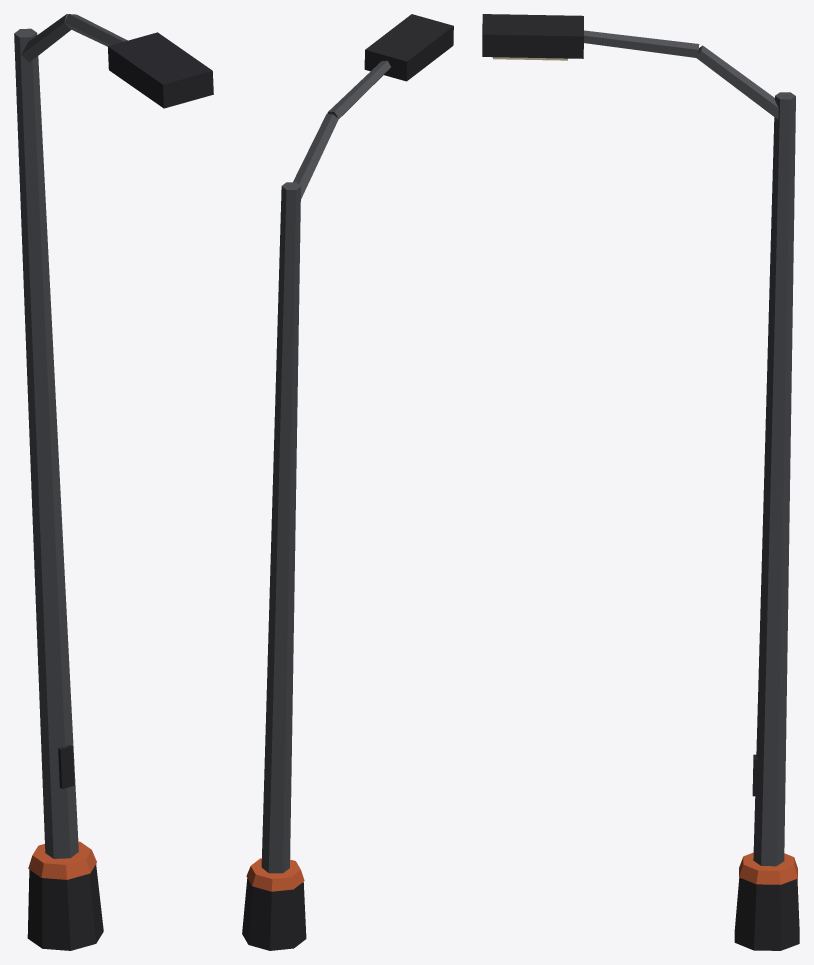
Rendered from streetlight.glb.
3 renders of one model, left to right at view 1: azimuth 30°, elevation 25°; view 2: azimuth 150°, elevation 25°; view 3: azimuth 270°, elevation 25°, orthographic. The views are drawn at different scales.
Parts seen in each view (by area): view 1: streetlight; view 2: streetlight; view 3: streetlight.
Boxes of the visible parts, left/top/right/bottom form: streetlight: left=14, top=14, right=213, bottom=950; streetlight: left=242, top=14, right=453, bottom=950; streetlight: left=482, top=14, right=799, bottom=950.
Bounding box in the file's own units: 0.4252 × 4.51 × 1.44.
